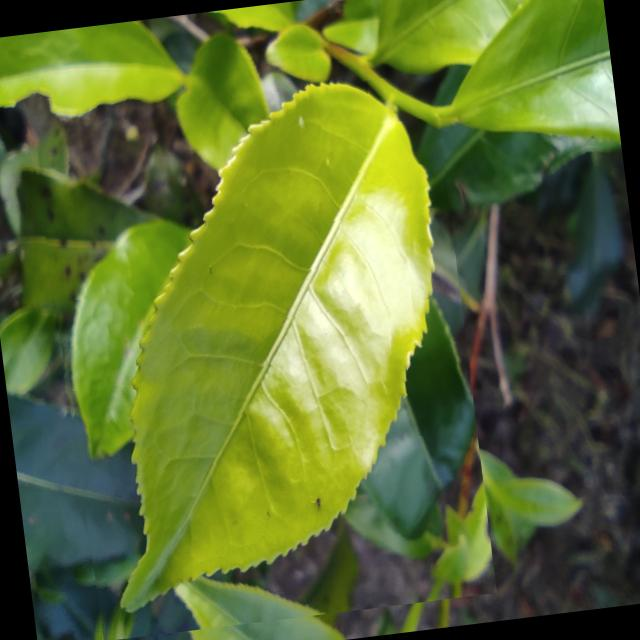Category B(2-4 days): (24, 48, 496, 640)
